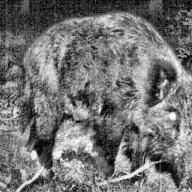boar: (25, 3, 192, 177)
